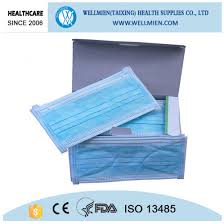flumask: (35, 75, 155, 143)
